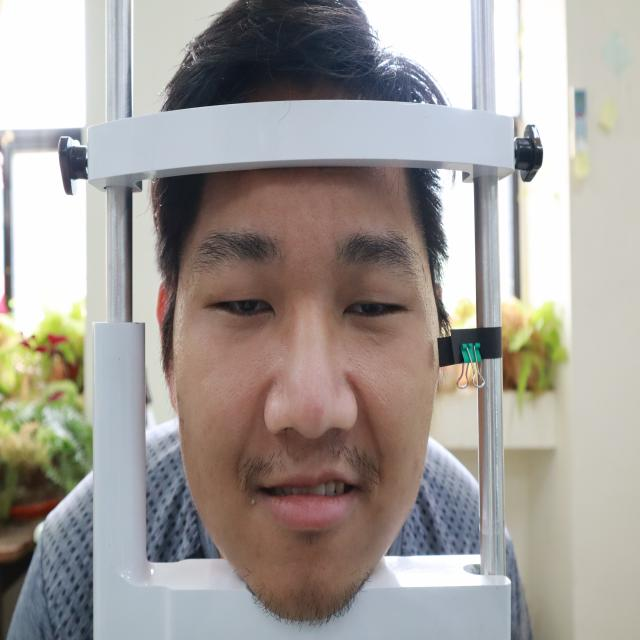eye: (201, 284, 279, 330), (340, 289, 416, 331)
gaze: (237, 295, 259, 316), (359, 298, 382, 318)
